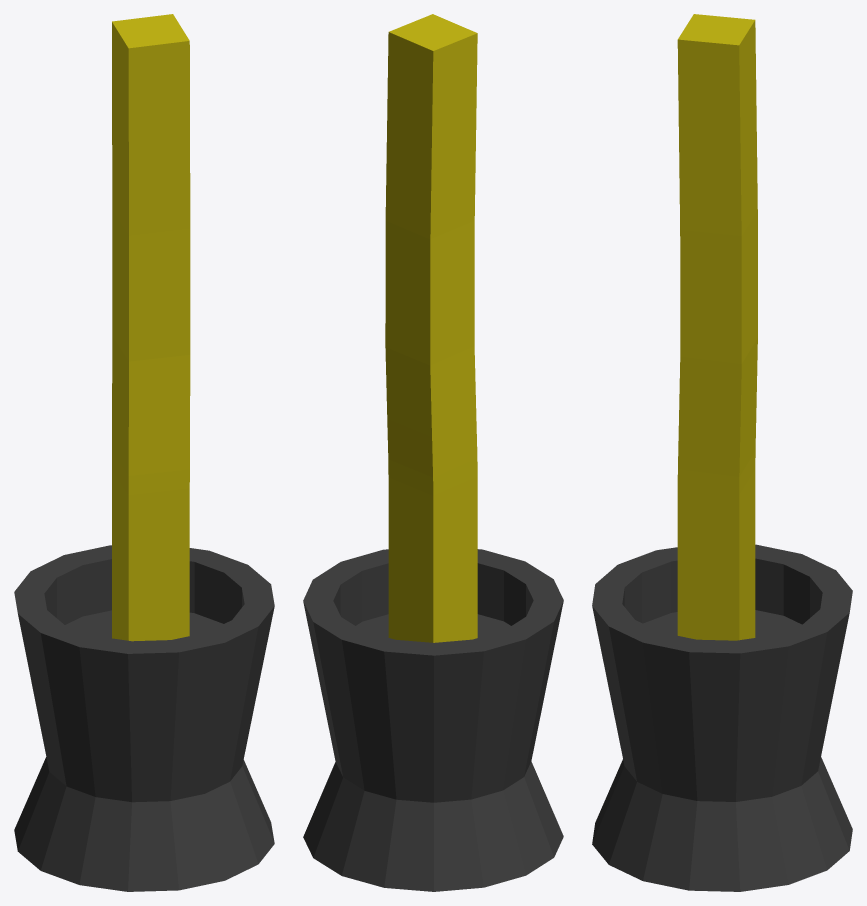
The model's file is cactus_grande_01_000005.obj.
3 renders of one model, left to right at view 1: azimuth 30°, elevation 25°; view 2: azimuth 150°, elevation 25°; view 3: azimuth 270°, elevation 25°, orthographic.
Parts seen in each view (by area): view 1: Cylinder, NurbsPath.001; view 2: Cylinder, NurbsPath.001; view 3: Cylinder, NurbsPath.001.
Boxes of the visible parts, x1,y1,x2,y2 form: Cylinder: (14, 545, 274, 891); NurbsPath.001: (112, 14, 190, 641); Cylinder: (303, 549, 563, 891); NurbsPath.001: (385, 14, 477, 642); Cylinder: (592, 544, 852, 891); NurbsPath.001: (677, 14, 757, 640).
Size of the model in its own units: 1.29 by 4.41 by 1.29.
